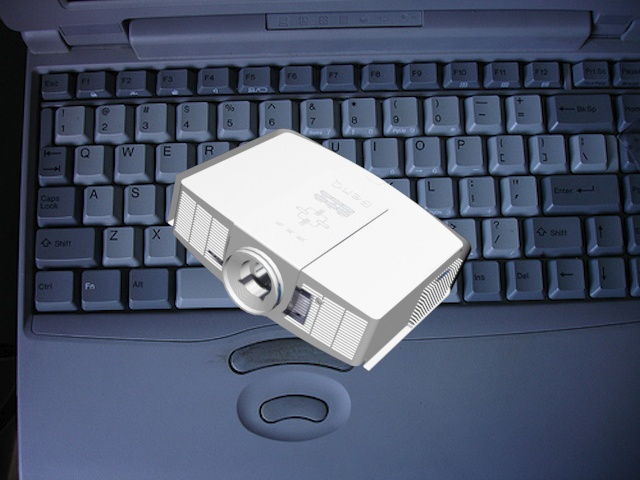projector: (162, 129, 472, 376)
